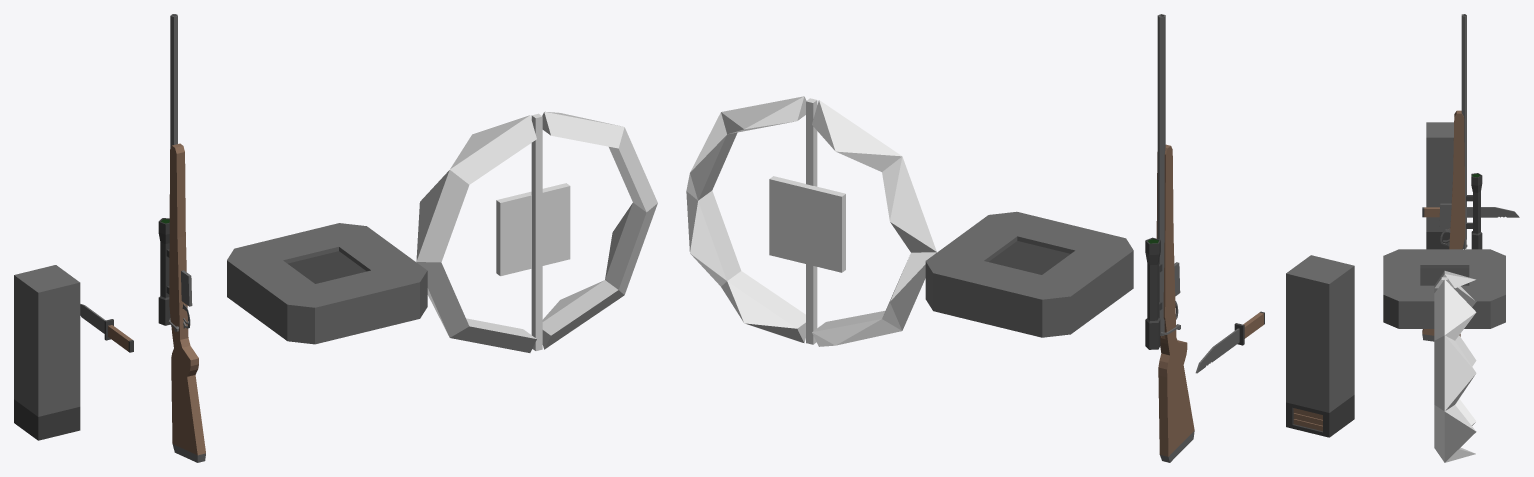
The model's file is Hunting Props.fbx.
3 renders of one model, left to right at view 1: azimuth 30°, elevation 25°; view 2: azimuth 150°, elevation 25°; view 3: azimuth 270°, elevation 25°, orthographic. The views are drawn at different scales.
Visible parts, largest first — view 1: Kit, Ammo box, Jaw 1, Jaw 2, Bear Trap, Rifle, Scope, Knife; view 2: Kit, Ammo box, Jaw 2, Jaw 1, Bear Trap, Rifle, Scope, Knife; view 3: Kit, Jaw 2, Ammo box, Rifle, Jaw 1, Scope, Knife, Clip.
Part boxes in pixels (<box>): Kit: <box>227,223,427,344</box>; Ammo box: <box>14,265,80,440</box>; Jaw 1: <box>416,115,536,352</box>; Jaw 2: <box>542,111,657,349</box>; Bear Trap: <box>496,113,570,350</box>; Rifle: <box>169,14,205,462</box>; Scope: <box>158,218,170,325</box>; Knife: <box>80,304,133,352</box>; Kit: <box>925,211,1133,337</box>; Ammo box: <box>1286,255,1354,437</box>; Jaw 2: <box>686,96,806,342</box>; Jaw 1: <box>812,100,936,346</box>; Bear Trap: <box>769,98,845,344</box>; Rifle: <box>1156,14,1194,462</box>; Scope: <box>1145,237,1162,349</box>; Knife: <box>1195,311,1264,373</box>; Kit: <box>1383,249,1505,328</box>; Jaw 2: <box>1434,279,1476,462</box>; Ammo box: <box>1426,122,1453,249</box>; Rifle: <box>1422,14,1466,341</box>; Jaw 1: <box>1434,271,1476,425</box>; Scope: <box>1466,173,1482,249</box>; Knife: <box>1422,207,1519,217</box>; Clip: <box>1439,203,1451,226</box>.
Bounding box in the file's own units: 903 × 591 × 222.
